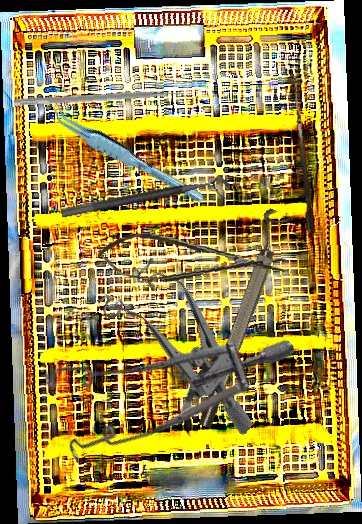Fixation Ring: (185, 206, 296, 431), (60, 174, 233, 233)
Hook Surgical: (286, 76, 317, 233)
Micro Scissor: (96, 228, 287, 294)
Spatula Surgical: (13, 87, 187, 114)
Speculum: (17, 236, 297, 514), (84, 246, 297, 437)
Tissue Forceps: (46, 89, 207, 221)
